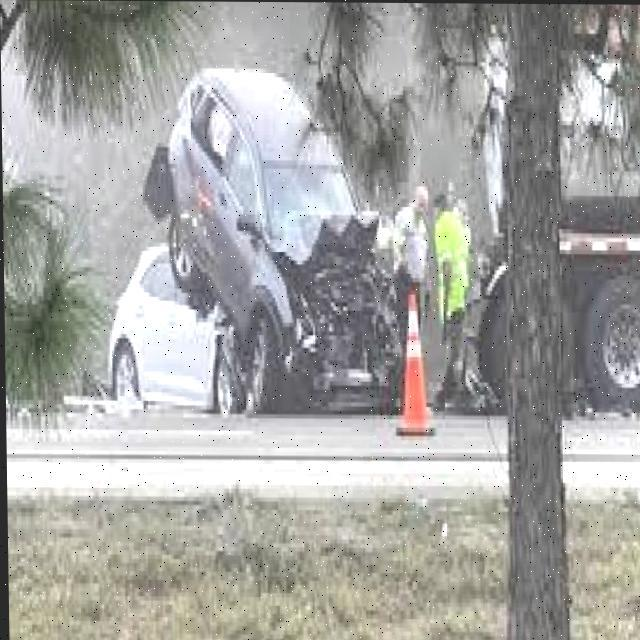single accident: (145, 47, 455, 410)
